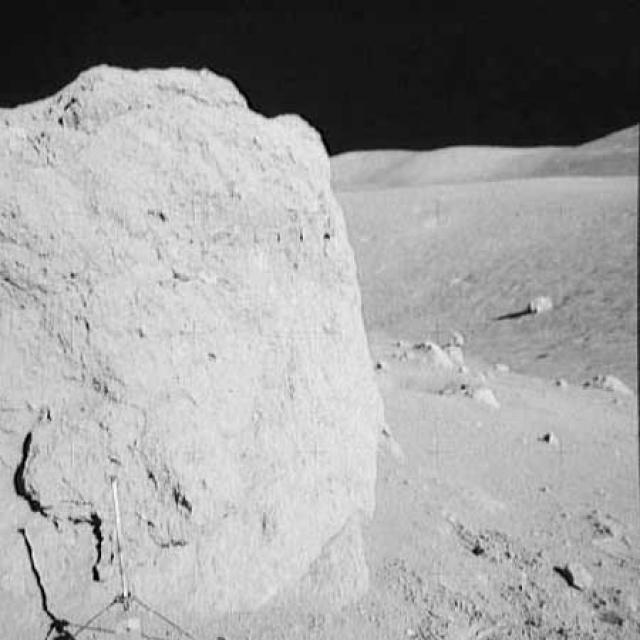rock: (395, 331, 467, 370), (589, 501, 632, 546), (586, 364, 636, 402), (456, 383, 502, 414), (555, 554, 590, 591), (520, 290, 557, 316), (538, 427, 558, 451), (488, 356, 507, 376), (551, 372, 566, 391)
